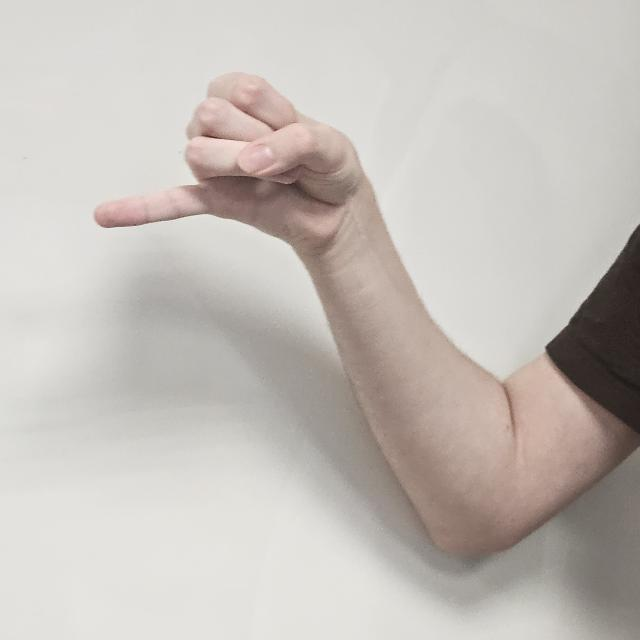Esquerda: (97, 53, 367, 304)
